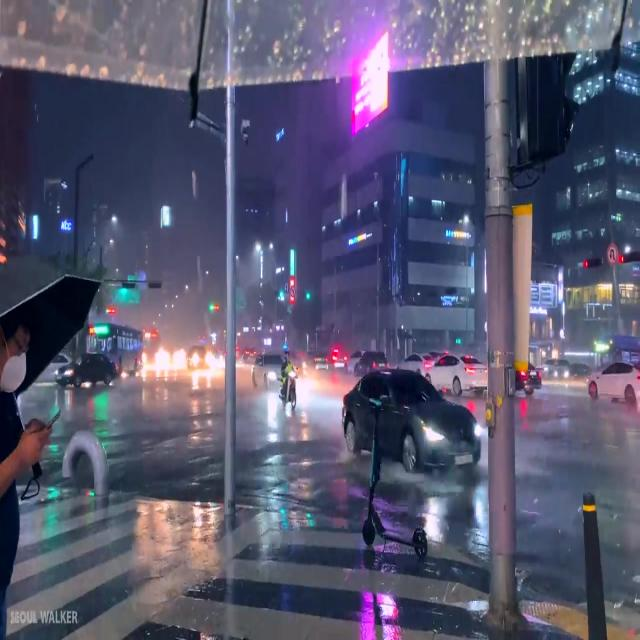Car: (341, 373, 481, 477)
